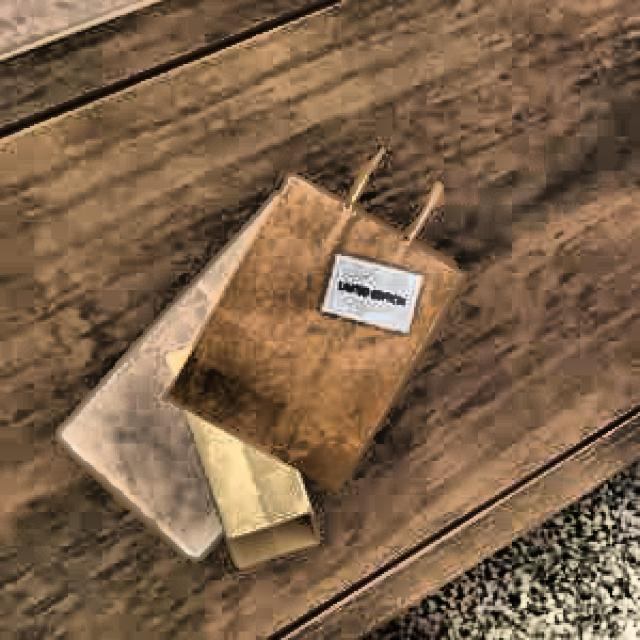Paper-bag: (37, 184, 422, 572), (147, 163, 479, 500), (153, 324, 322, 566)
